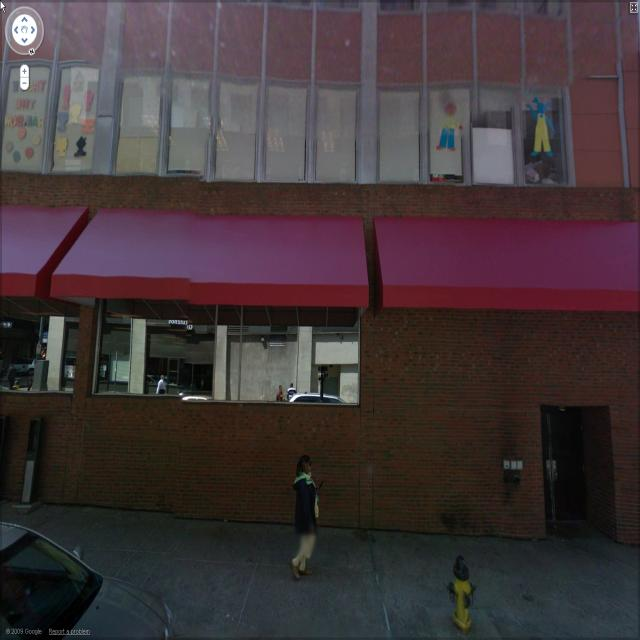b_1: (2, 7, 640, 552)
